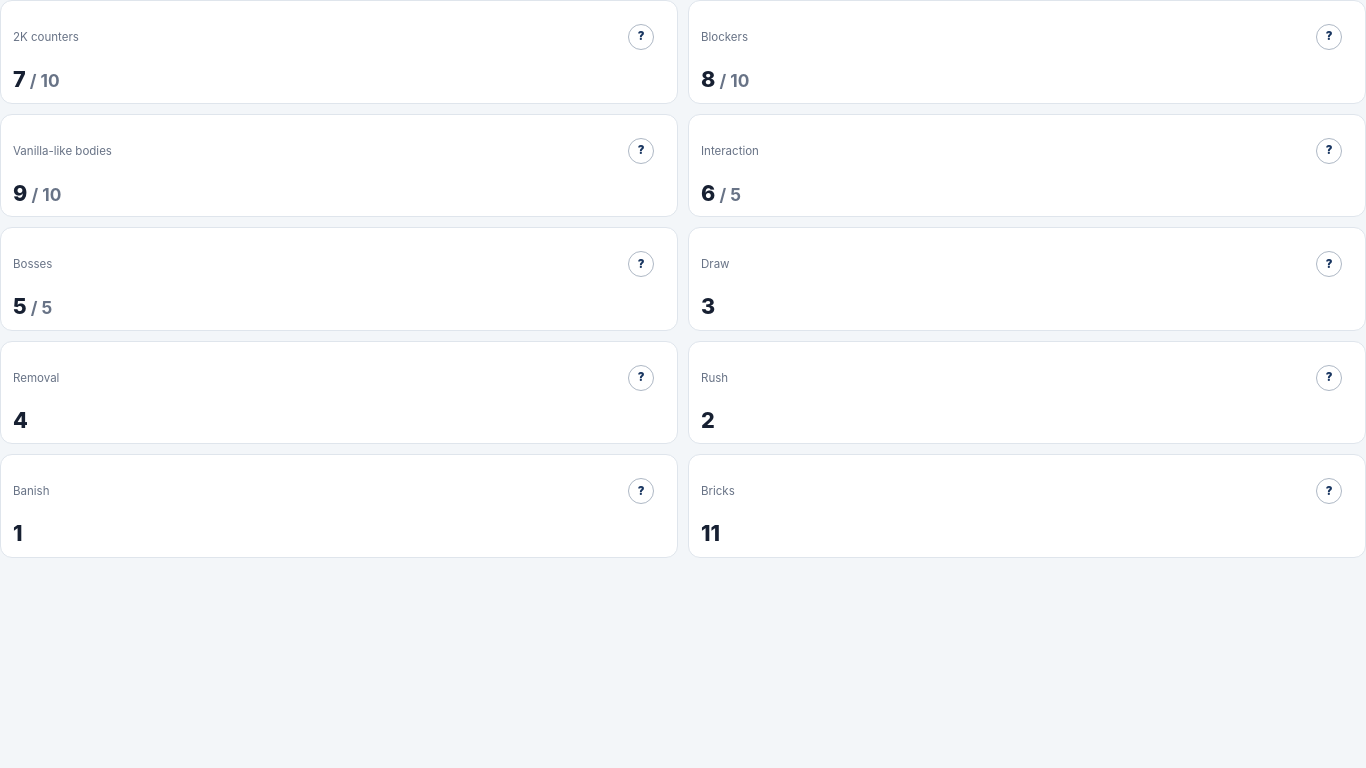
Test: DeckRoleCoverage › shows the approved definition for Vanilla-like bodies
Click the button named "What does Vanilla-like bodies mean?": (641, 151) [617, 127, 665, 175]
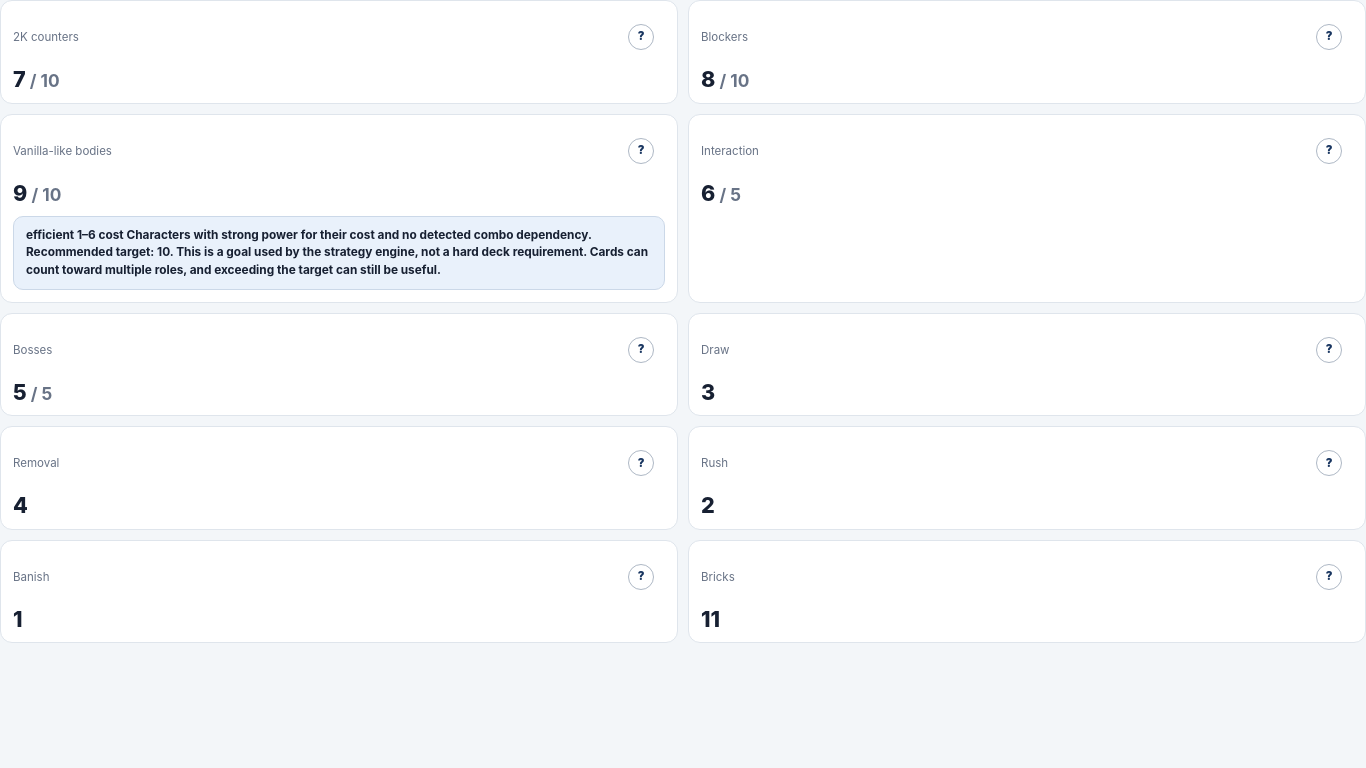
Expected: the tooltip shows "efficient 1–6 cost Characters with strong power for their cost and no detected combo dependency.", [26, 228, 648, 276]
